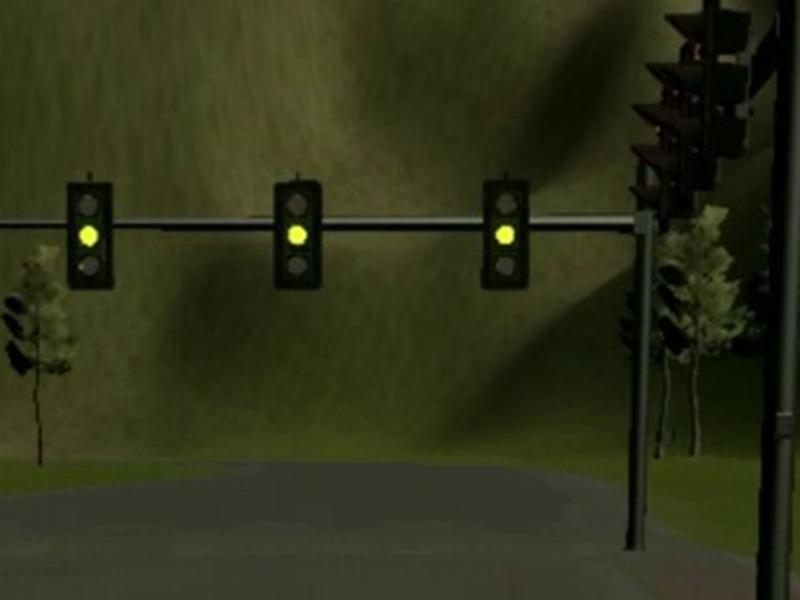Yellow: (481, 179, 531, 291), (67, 182, 115, 291), (274, 182, 322, 290)
